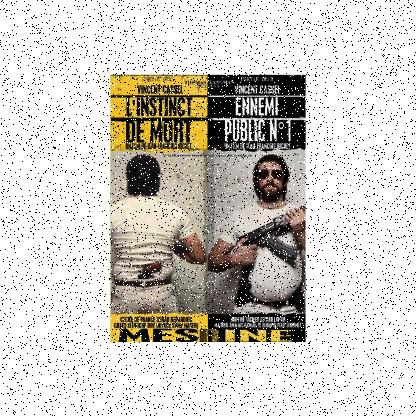gun: (136, 260, 160, 282)
